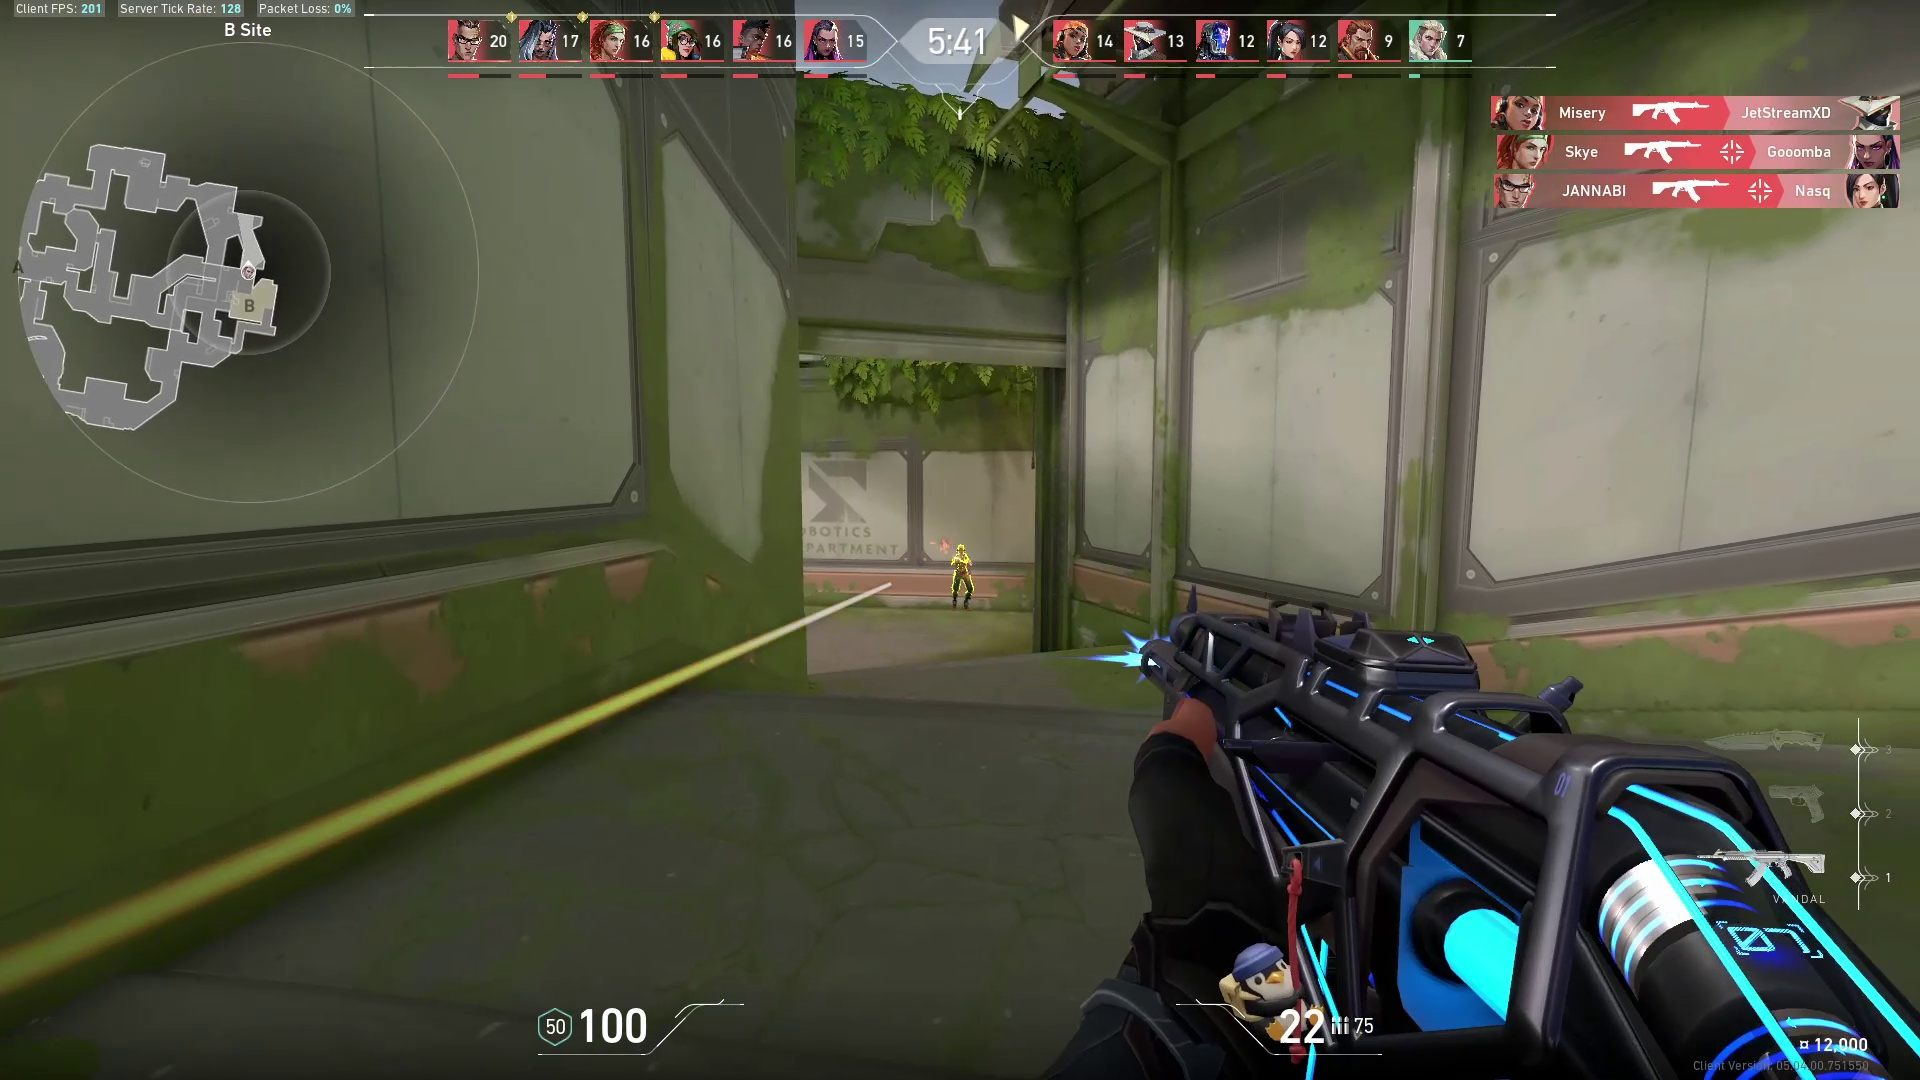enemy_body: (947, 555, 976, 613)
enemy_head: (954, 542, 968, 556)
